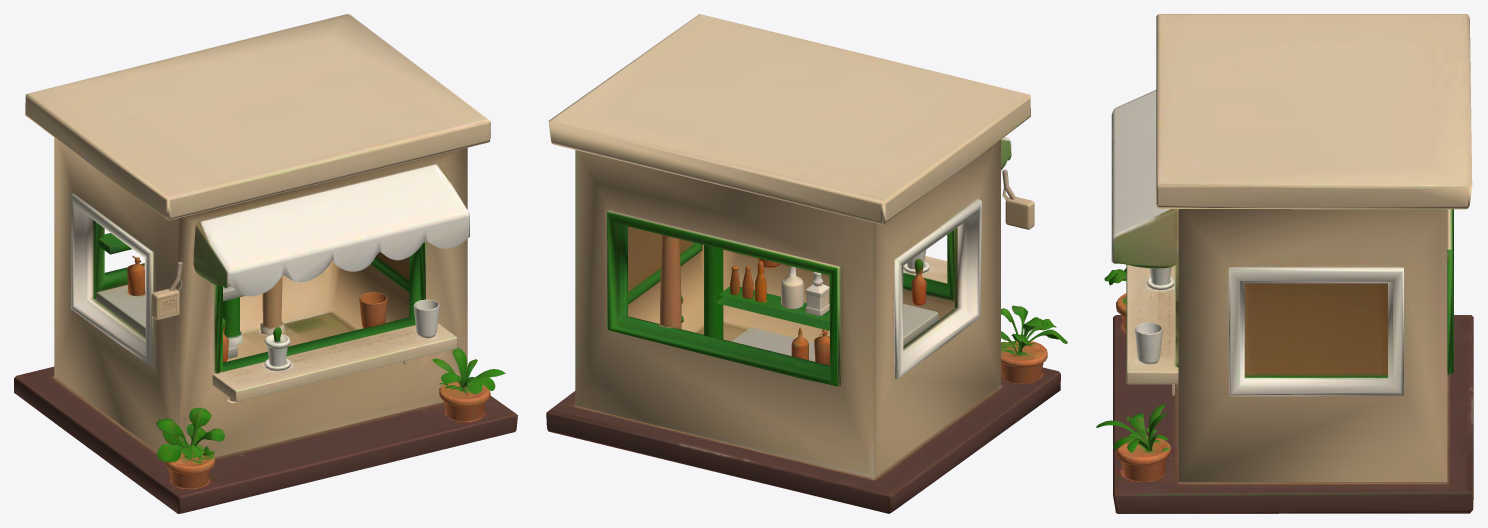
Rendered from kiosk_drinks.glb.
The picture shows the model from 3 angles, left to right: view 1: azimuth 30°, elevation 25°; view 2: azimuth 150°, elevation 25°; view 3: azimuth 270°, elevation 25°; orthographic projection. The views are drawn at different scales.
Visible parts, largest first — view 1: kiosk_drinks; view 2: kiosk_drinks; view 3: kiosk_drinks.
Boxes of the visible parts, bbox=[...] form: kiosk_drinks: bbox=[14, 14, 517, 513]; kiosk_drinks: bbox=[546, 14, 1067, 513]; kiosk_drinks: bbox=[1096, 14, 1473, 513].
Bounding box in the file's own units: 3.4 × 2.79 × 2.9.
1 material, 1 textured.
